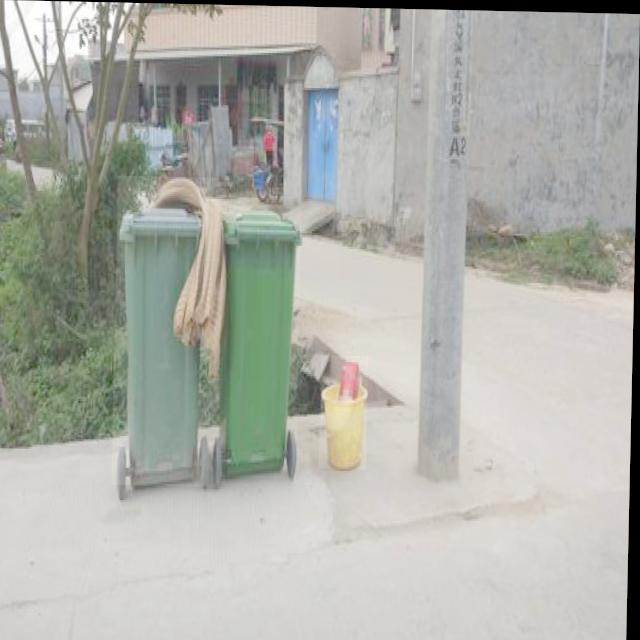garbage: (321, 354, 370, 468)
garbage_bin: (220, 204, 303, 477)
overflow: (114, 175, 227, 486)
